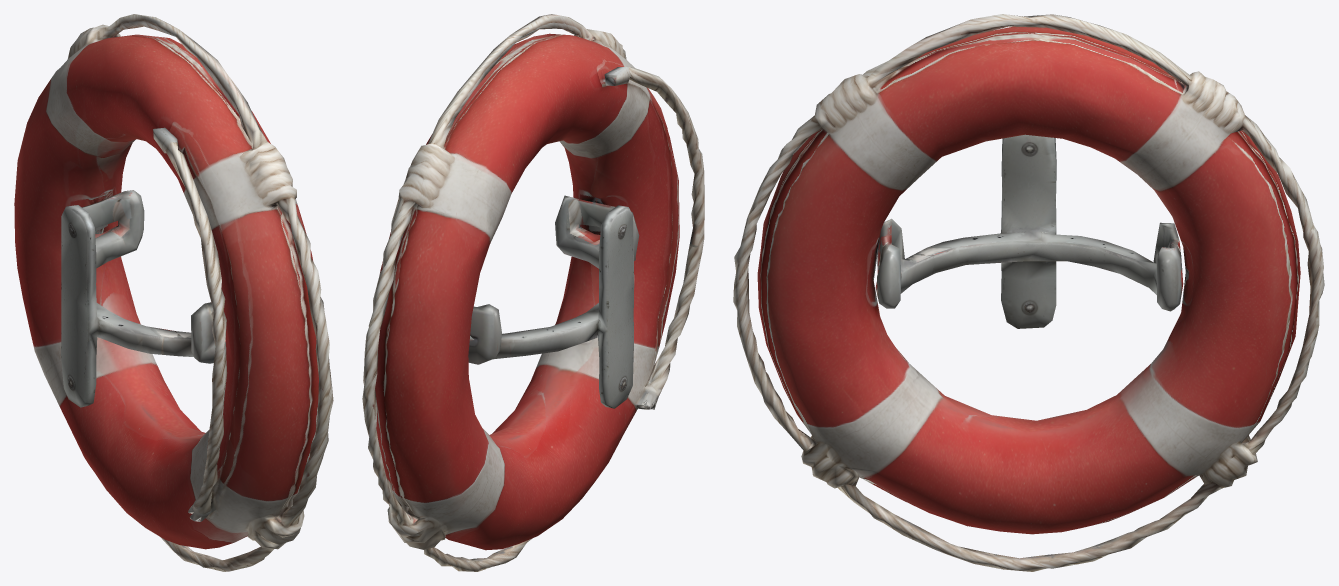
File: VAR_PoolHall_LifeRingHolder.fbx
3 renders of one model, left to right at view 1: azimuth 30°, elevation 25°; view 2: azimuth 150°, elevation 25°; view 3: azimuth 270°, elevation 25°, orthographic. The views are drawn at different scales.
Visible parts, largest first — view 1: texture_mapping; view 2: texture_mapping; view 3: texture_mapping.
Part boxes in pixels (left/top/right/bottom): texture_mapping: left=14, top=14, right=333, bottom=571; texture_mapping: left=362, top=14, right=704, bottom=571; texture_mapping: left=733, top=14, right=1324, bottom=571.
Size of the model in its own units: 0.2919 by 0.966 by 0.9952.
Materials: 1 (1 with a texture image).
